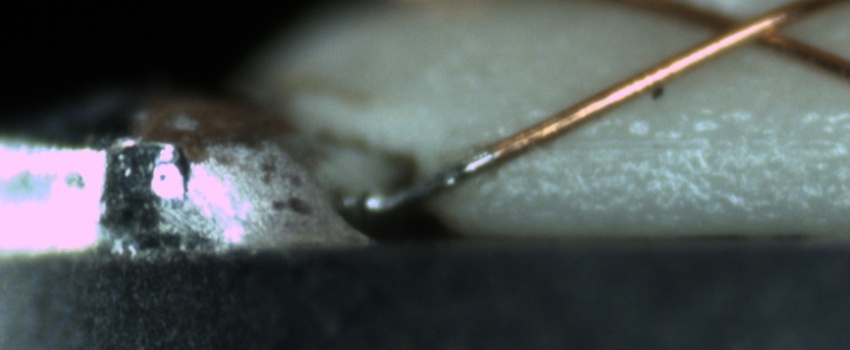CL: (686, 3, 806, 57)
DL: (548, 111, 850, 175)
TS: (382, 151, 495, 212)
TTCW: (349, 129, 540, 215)
